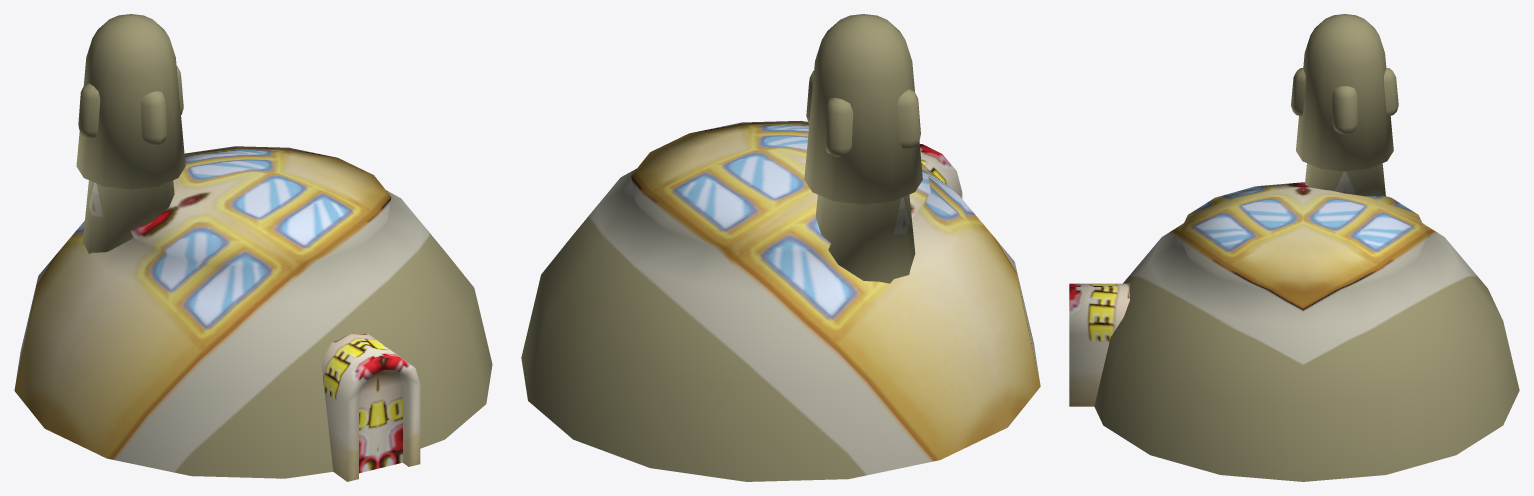
The picture shows the model from 3 angles, left to right: view 1: azimuth 30°, elevation 25°; view 2: azimuth 150°, elevation 25°; view 3: azimuth 270°, elevation 25°; orthographic projection. The views are drawn at different scales.
Parts seen in each view (by area): view 1: 830001_2; view 2: 830001_2; view 3: 830001_2.
Boxes of the visible parts, x1=… form: 830001_2: x1=14, y1=14, x2=492, y2=481; 830001_2: x1=521, y1=14, x2=1040, y2=481; 830001_2: x1=1069, y1=14, x2=1519, y2=481.
Size of the model in its own units: 11242 by 9483 by 11697.
